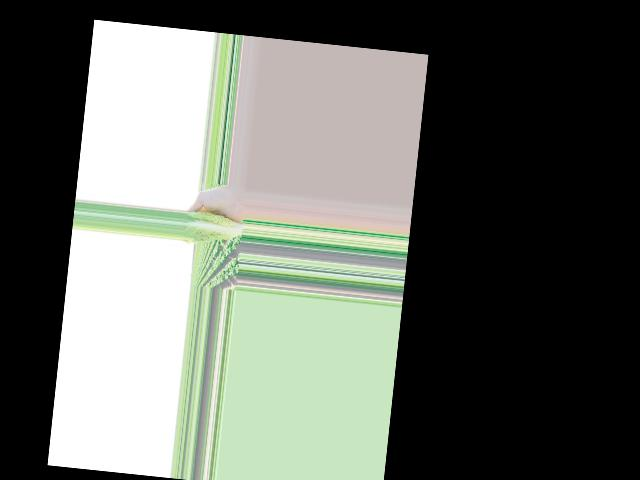lettuce: (184, 210, 244, 247)
